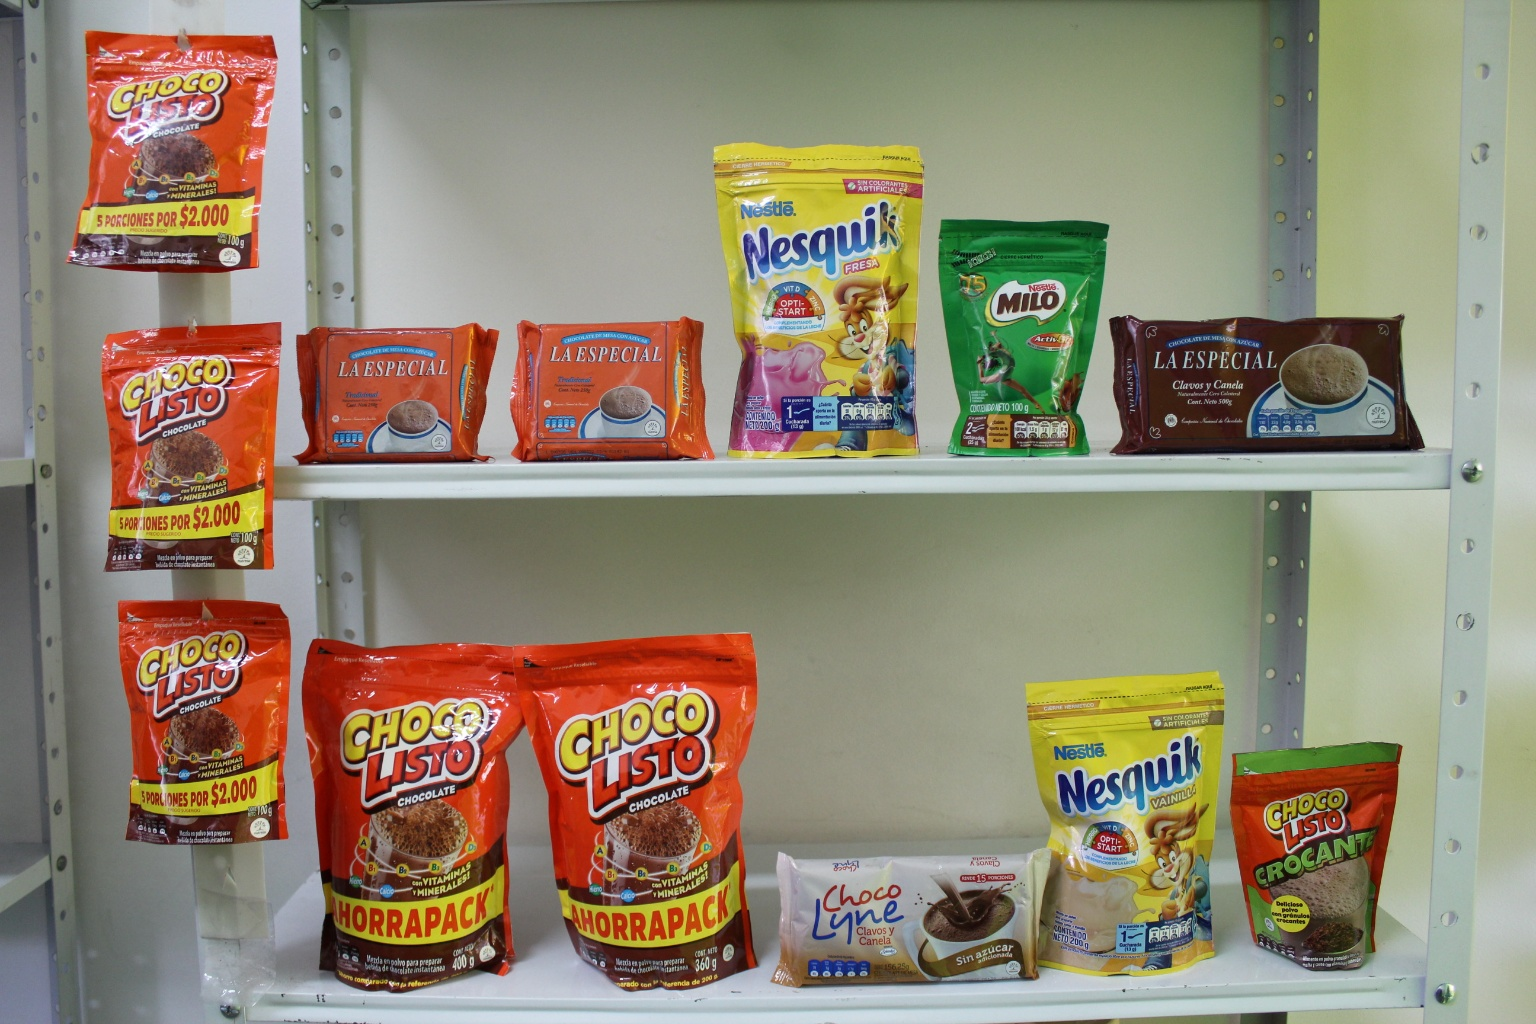COL0170102DYP10000: (1229, 738, 1410, 965)
COL0170103DYP10000: (71, 25, 278, 293)
COL0170103DYP36000: (520, 619, 762, 985)
COL0170103DYP40000: (303, 619, 523, 981)
COL0170203DYP10000: (939, 211, 1115, 464)
COL0170305DYP20000: (712, 136, 936, 457)
COL0170306DYP20000: (1024, 671, 1231, 976)
